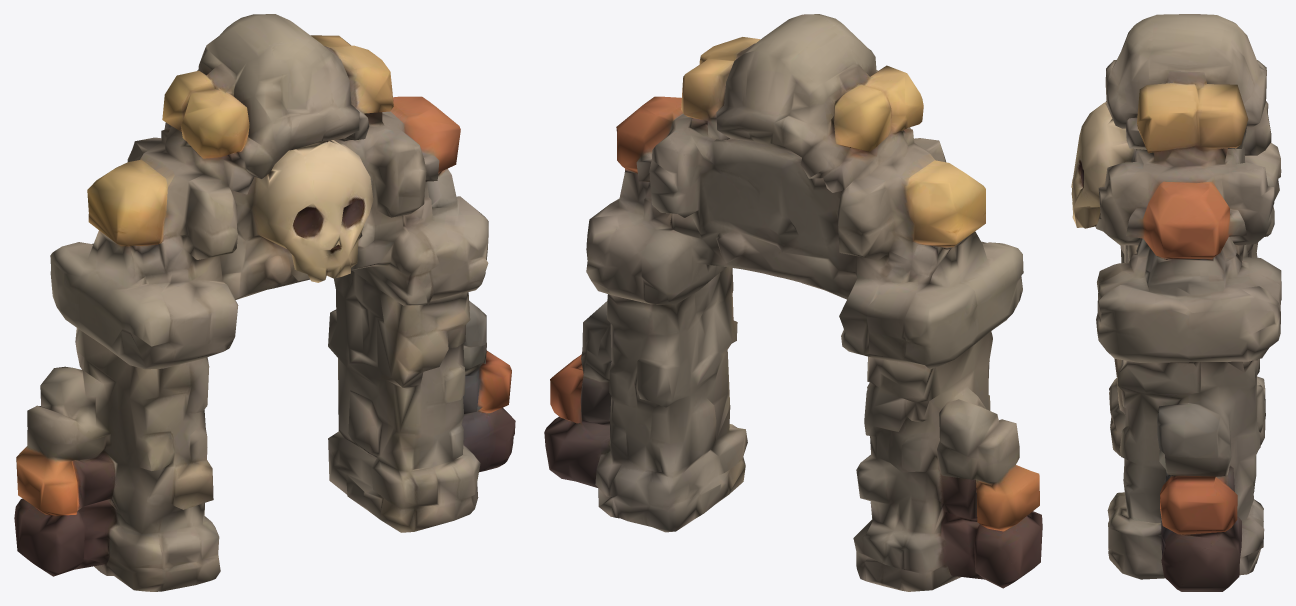
The model's file is cr_arch-BMBwRxaH.glb.
3 renders of one model, left to right at view 1: azimuth 30°, elevation 25°; view 2: azimuth 150°, elevation 25°; view 3: azimuth 270°, elevation 25°, orthographic. The views are drawn at different scales.
Visible parts, largest first — view 1: tripo_node_5f9913a7-848f-4c3e-8133-f5ee81eae516; view 2: tripo_node_5f9913a7-848f-4c3e-8133-f5ee81eae516; view 3: tripo_node_5f9913a7-848f-4c3e-8133-f5ee81eae516.
Boxes of the visible parts, x1,y1,x2,y2 form: tripo_node_5f9913a7-848f-4c3e-8133-f5ee81eae516: [14, 14, 515, 591]; tripo_node_5f9913a7-848f-4c3e-8133-f5ee81eae516: [544, 14, 1042, 591]; tripo_node_5f9913a7-848f-4c3e-8133-f5ee81eae516: [1071, 14, 1281, 591].
Size of the model in its own units: 4.3 by 4.4 by 1.73.
Materials: 1 (1 with a texture image).
